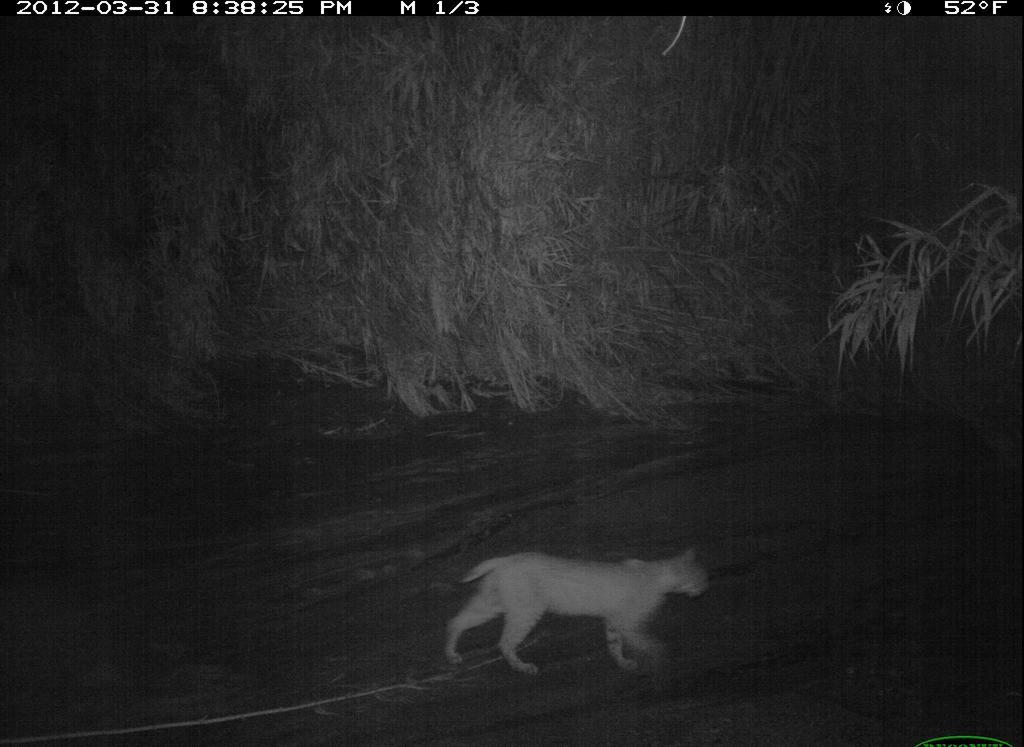bobcat: (440, 546, 715, 676)
